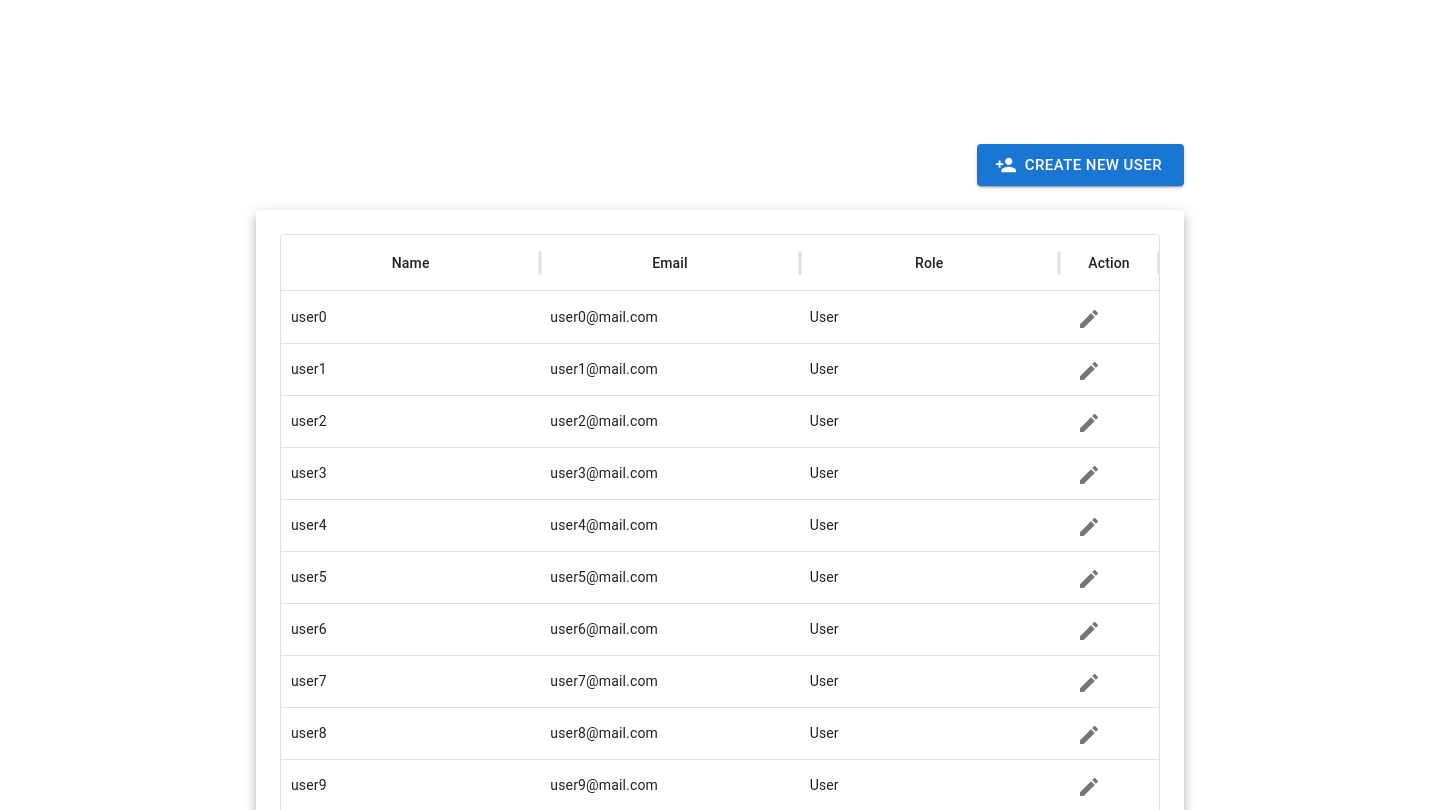
UserManagement › should reload table when update user success
Step 1. Click the button with test id "edit-icon-action-0" → (1089, 318), box x1=1069 y1=298 x2=1109 y2=338
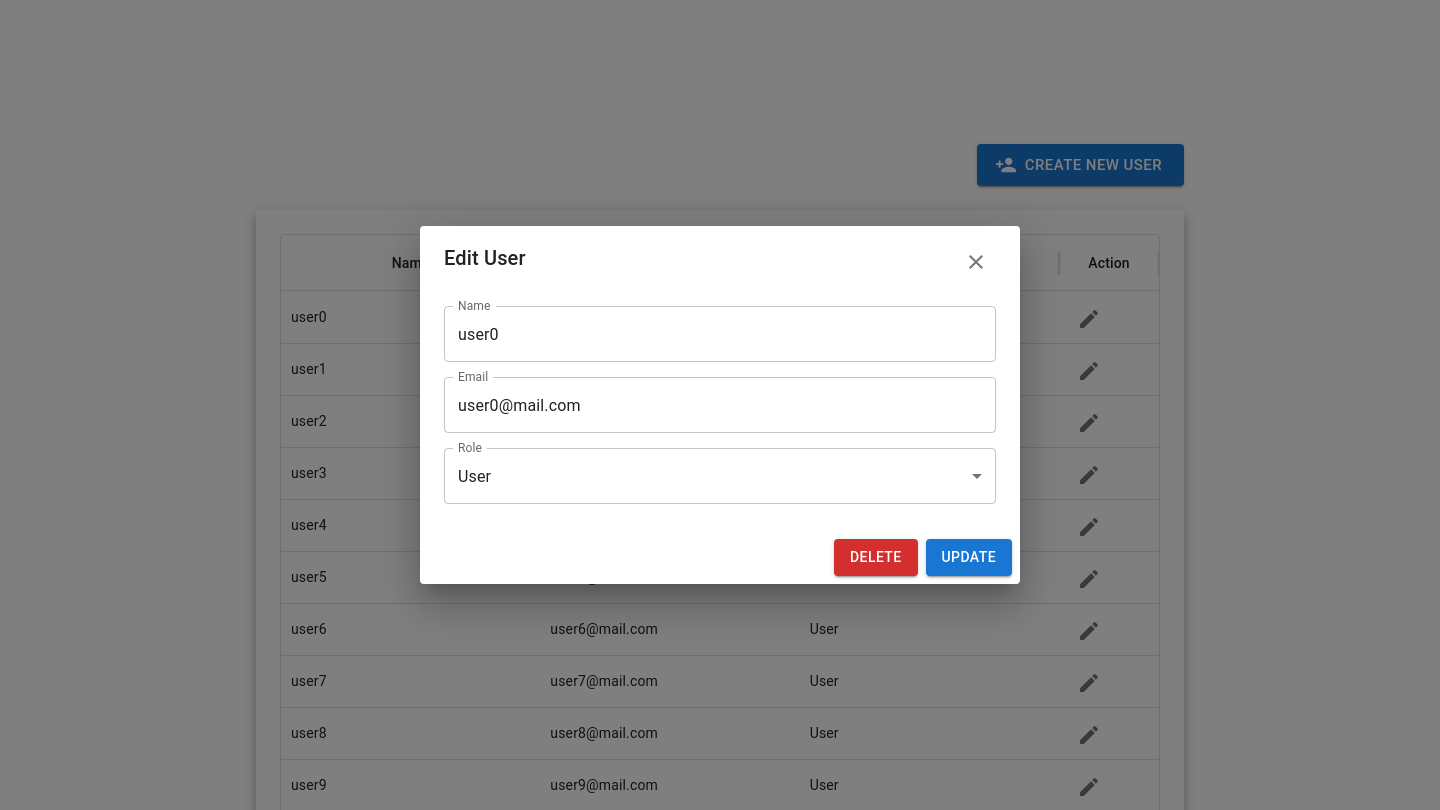
Expected: the element with test id "user-edit-dialog" is shown
Expected: the field with test id "user-edit-name-input" holds "user0", x1=444 y1=306 x2=996 y2=362
Expected: the field with test id "user-edit-email-input" holds "user0@mail.com", x1=444 y1=377 x2=996 y2=433
Step 2. Click the button with test id "user-edit-confirm-button" → (969, 558), box x1=926 y1=539 x2=1012 y2=576
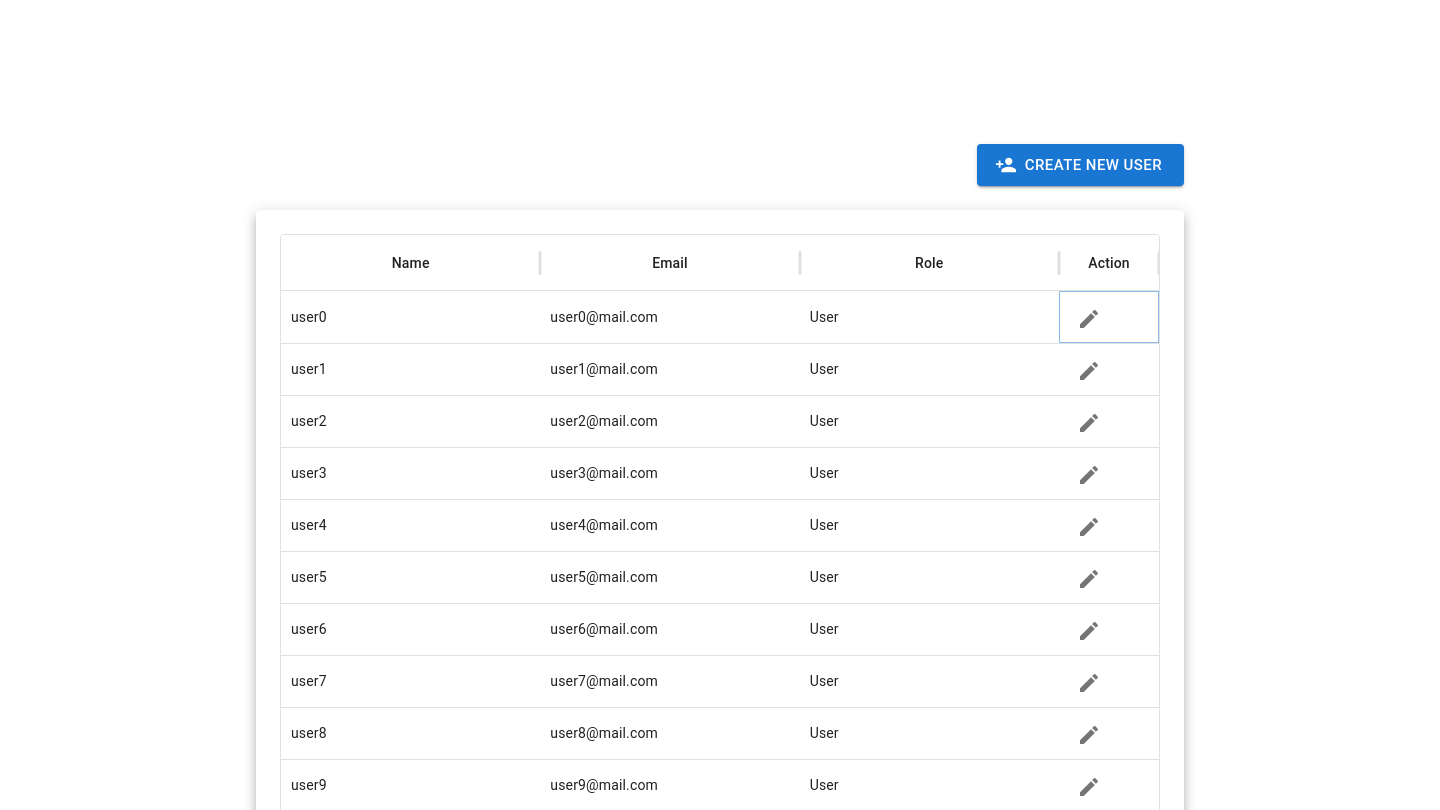
Expected: the element with test id "user-edit-dialog" is gone
